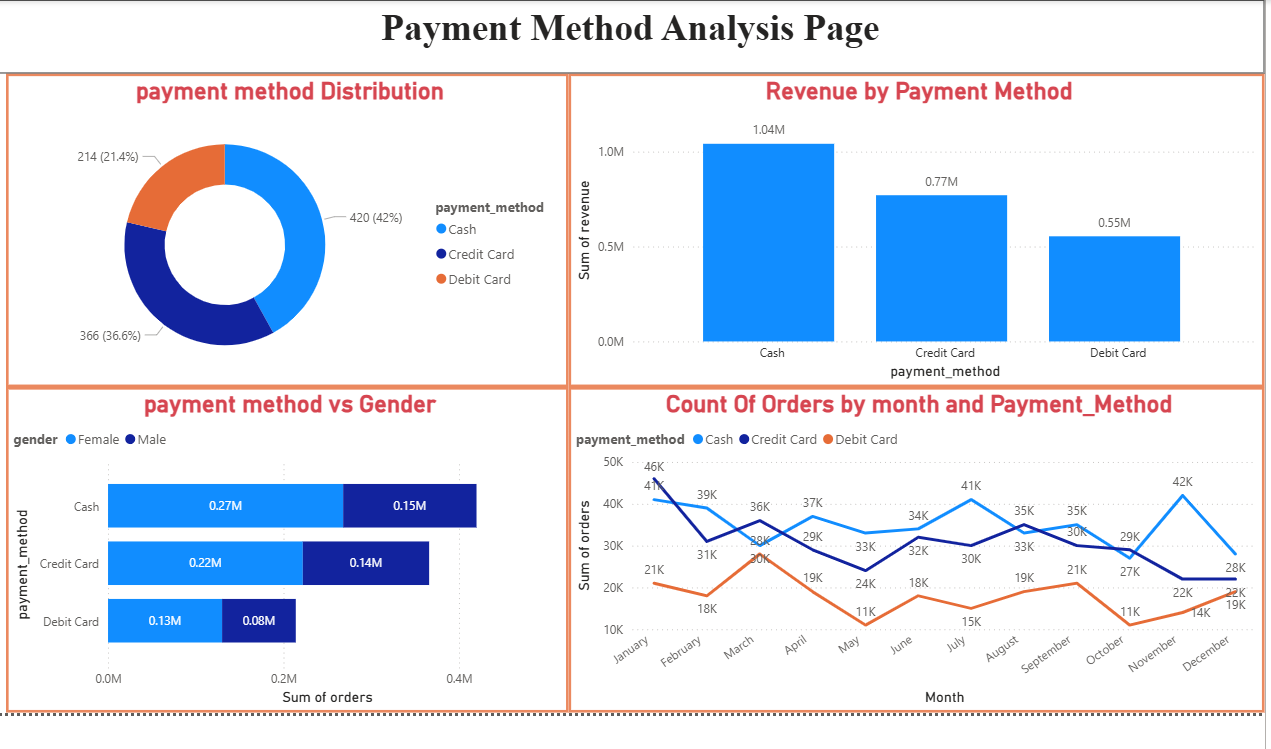

The page's visual inventory and layout, read from the dashboard file:
{"tool":"powerbi","page":{"name":"Page 3","canvas":[1280,720],"ordinal":2},"visuals":[{"type":"donutChart","title":"payment method Distribution","fields":{"Category":["project1.payment_method"],"Y":["CountNonNull(project1.payment_method)"]},"box":[9.1,74.2,567.8,316.5],"z":0},{"type":"columnChart","title":"Revenue by Payment Method","fields":{"Y":["Sum(project1.revenue)"],"Category":["project1.payment_method"]},"box":[576.9,74.2,702.6,316.5],"z":1000},{"type":"barChart","title":"payment method vs Gender","fields":{"Category":["project1.payment_method"],"Y":["Sum(project1.orders)"],"Series":["project1.gender"]},"box":[9.1,390.7,567.8,328.6],"z":2000},{"type":"lineChart","title":"Count Of Orders by month and Payment_Method","fields":{"Y":["Sum(project1.orders)"],"Category":["project1.invoice_date.Variation.Date Hierarchy.Month"],"Series":["project1.payment_method"]},"box":[576.9,390.7,702.6,328.6],"z":3000},{"type":"textbox","box":[0,0,1279.5,74.2],"z":4000}]}

Visuals, with their boxes in screenshot pixels (x1, y1, x2, y2):
"payment method Distribution" donutChart: (left=9, top=73, right=565, bottom=383)
"Revenue by Payment Method" columnChart: (left=565, top=73, right=1253, bottom=383)
"payment method vs Gender" barChart: (left=9, top=383, right=565, bottom=704)
"Count Of Orders by month and Payment_Method" lineChart: (left=565, top=383, right=1253, bottom=704)
textbox: (left=0, top=0, right=1253, bottom=73)
